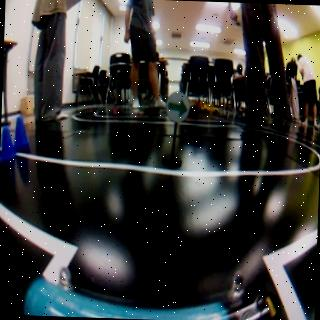right: (166, 93, 188, 121)
